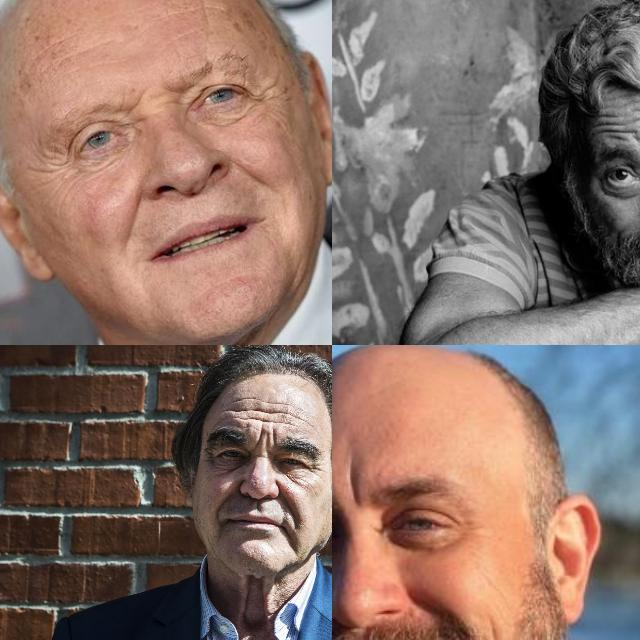crows_feet: (30, 146, 74, 180), (252, 76, 286, 112), (310, 458, 324, 479), (202, 451, 216, 472)
forehead: (270, 402, 310, 430), (598, 110, 630, 140), (185, 0, 214, 30), (230, 400, 264, 424)
frown_line: (342, 461, 368, 509), (124, 88, 146, 124), (254, 429, 276, 446)
gummy_smile: (222, 152, 264, 188), (118, 192, 144, 244), (276, 484, 296, 514), (220, 481, 238, 509)
masseter: (486, 613, 500, 640)
sad_smile: (214, 512, 224, 538), (284, 522, 294, 544)
